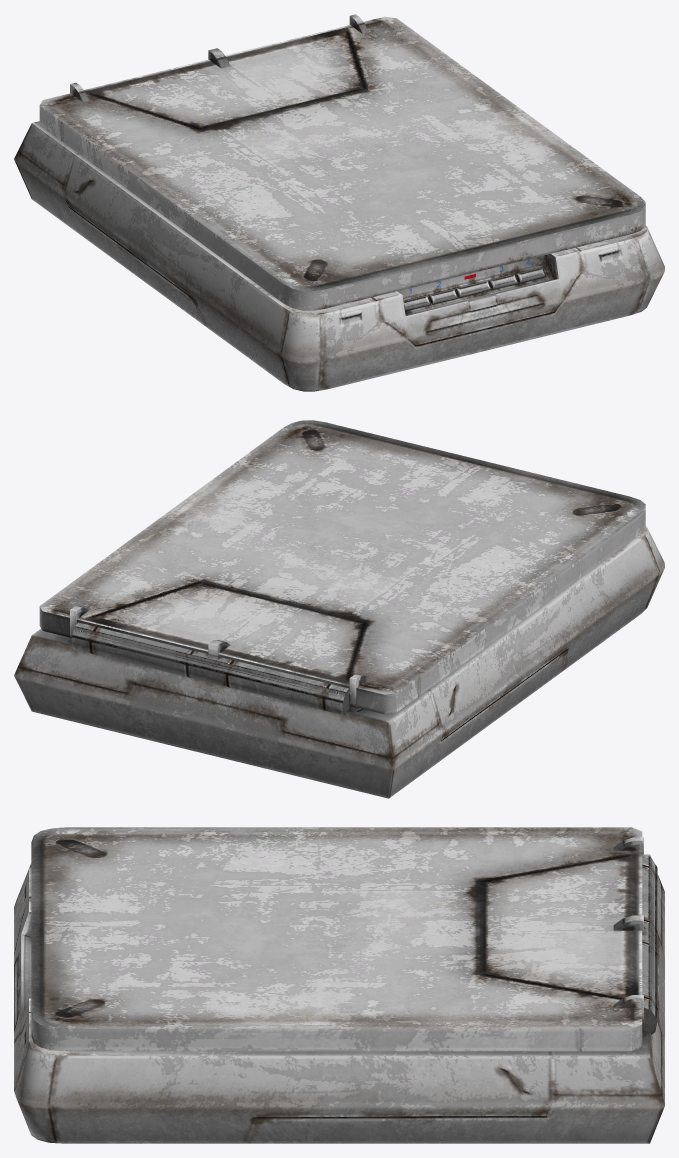
Rendered from scanner_office_theta.DAE.
3 views of the same model, one above another, from view 1: azimuth 30°, elevation 25°; view 2: azimuth 150°, elevation 25°; view 3: azimuth 270°, elevation 25° (orthographic). The views are drawn at different scales.
Parts seen in each view (by area): view 1: lid, base; view 2: lid, base; view 3: lid, base.
Part boxes in pixels (x1=…): lid: x1=39, y1=16, x2=645, y2=310; base: x1=14, y1=14, x2=664, y2=391; lid: x1=39, y1=420, x2=645, y2=714; base: x1=14, y1=526, x2=664, y2=798; lid: x1=31, y1=827, x2=642, y2=1051; base: x1=14, y1=837, x2=664, y2=1143.
Size of the model in its own units: 0.35 by 0.0955 by 0.45.
